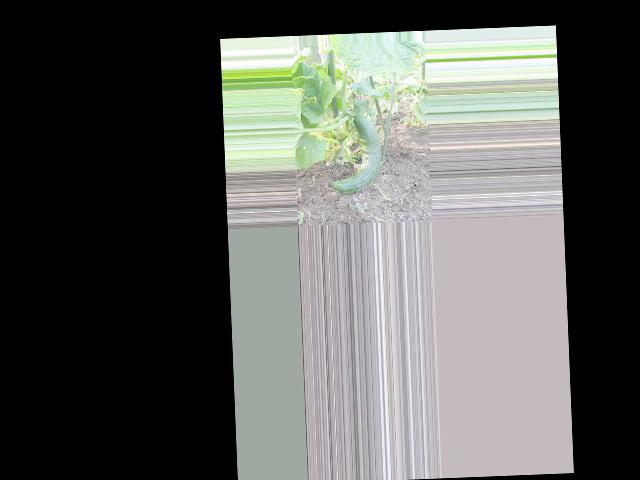cucumber: (329, 112, 383, 194)
